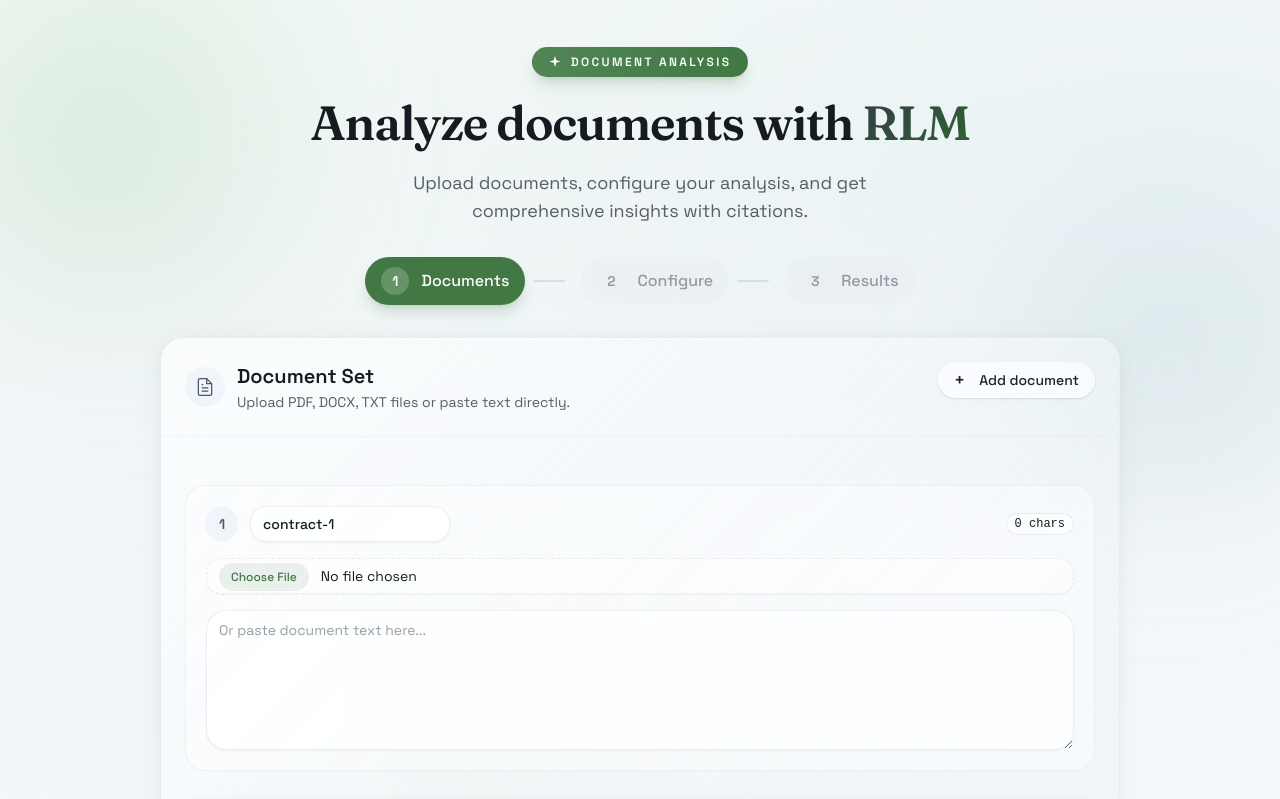
it: Home Page › configuration step › should show advanced parameters based on selected mode
# Navigate to configure
In the text box with placeholder "Or paste document text here...": (640,680) [206,610,1074,750], type "Content"
(page scrolled)
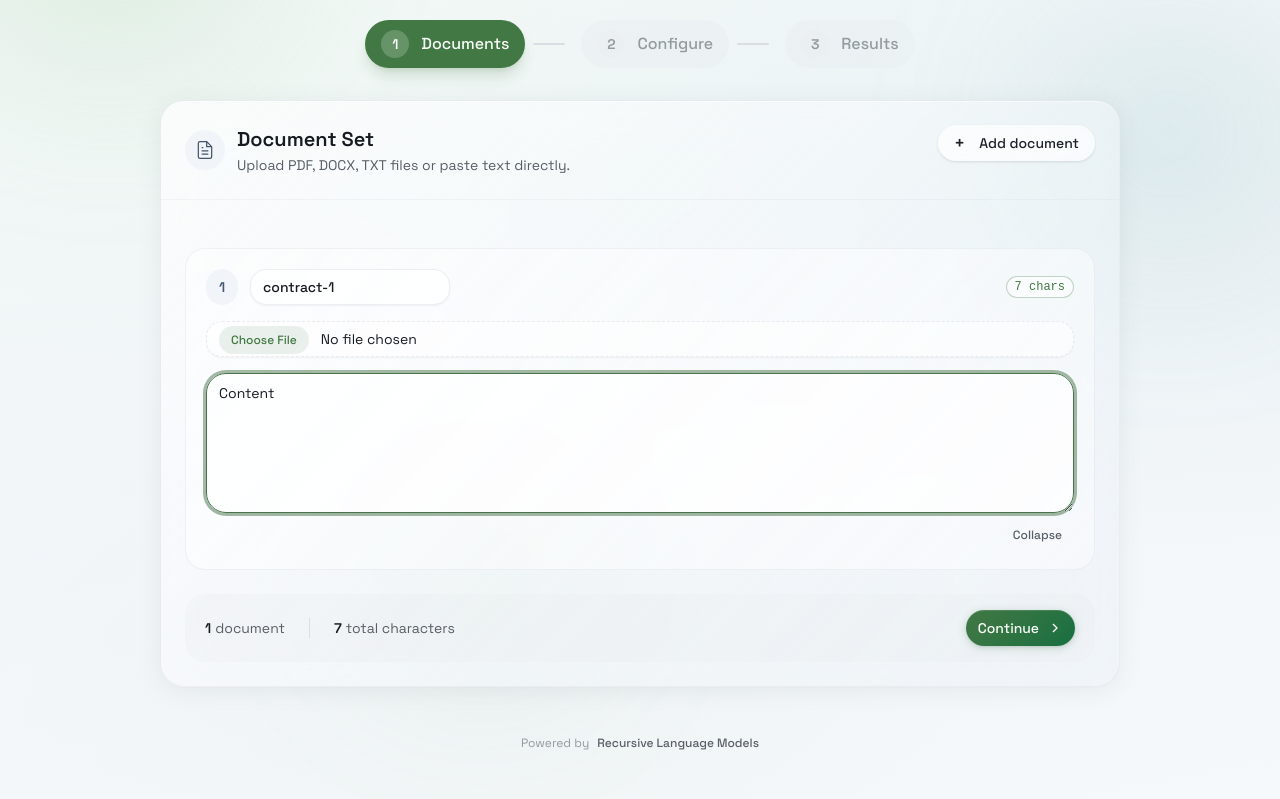
Click the button "Continue": (1020,628) [966,610,1075,646]
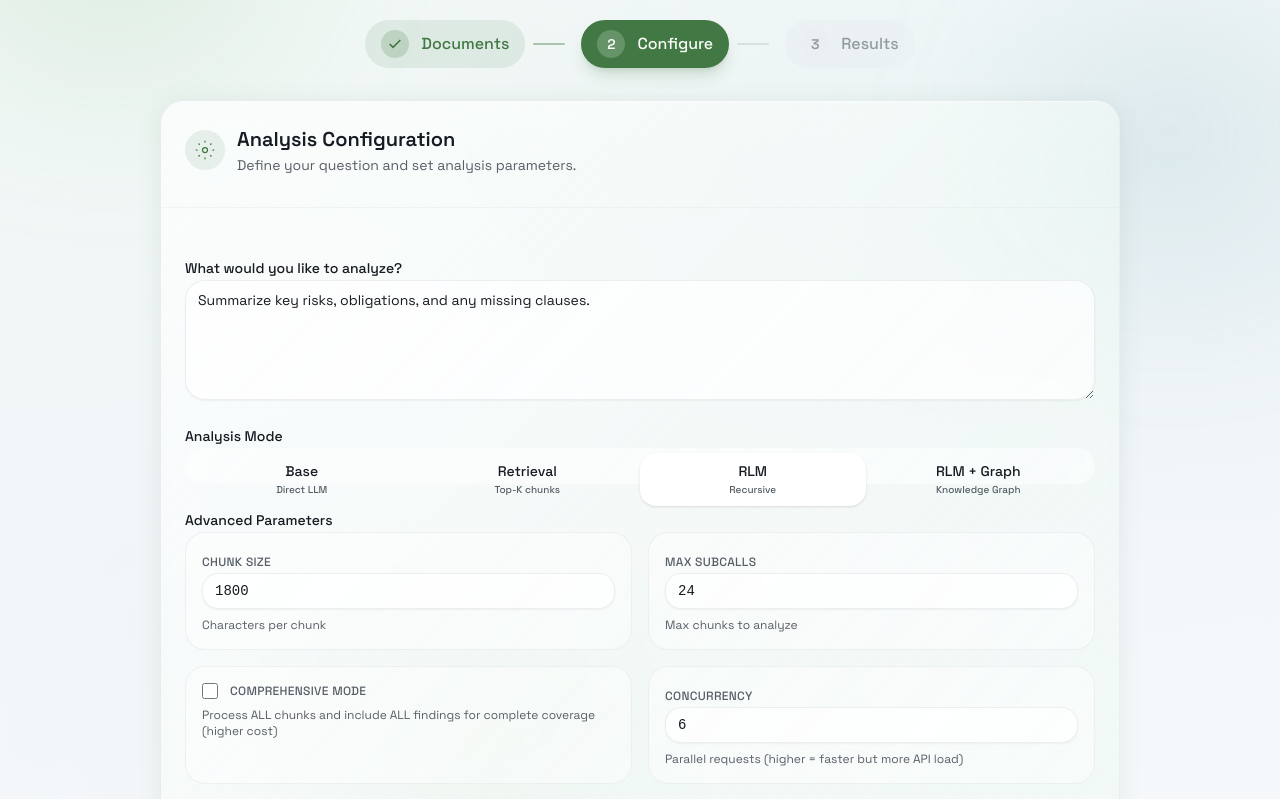
Expected: the text "Top K" is not shown
Expected: the text "Chunk size" is shown, [202,554,271,570]
Expected: the text "Max subcalls" is shown, [665,554,756,570]
# Switch to retrieval mode - should show Chunk size and Top K, but not Max subcalls
Click the tab "Retrieval Top-K chunks": (527,479) [414,452,640,506]
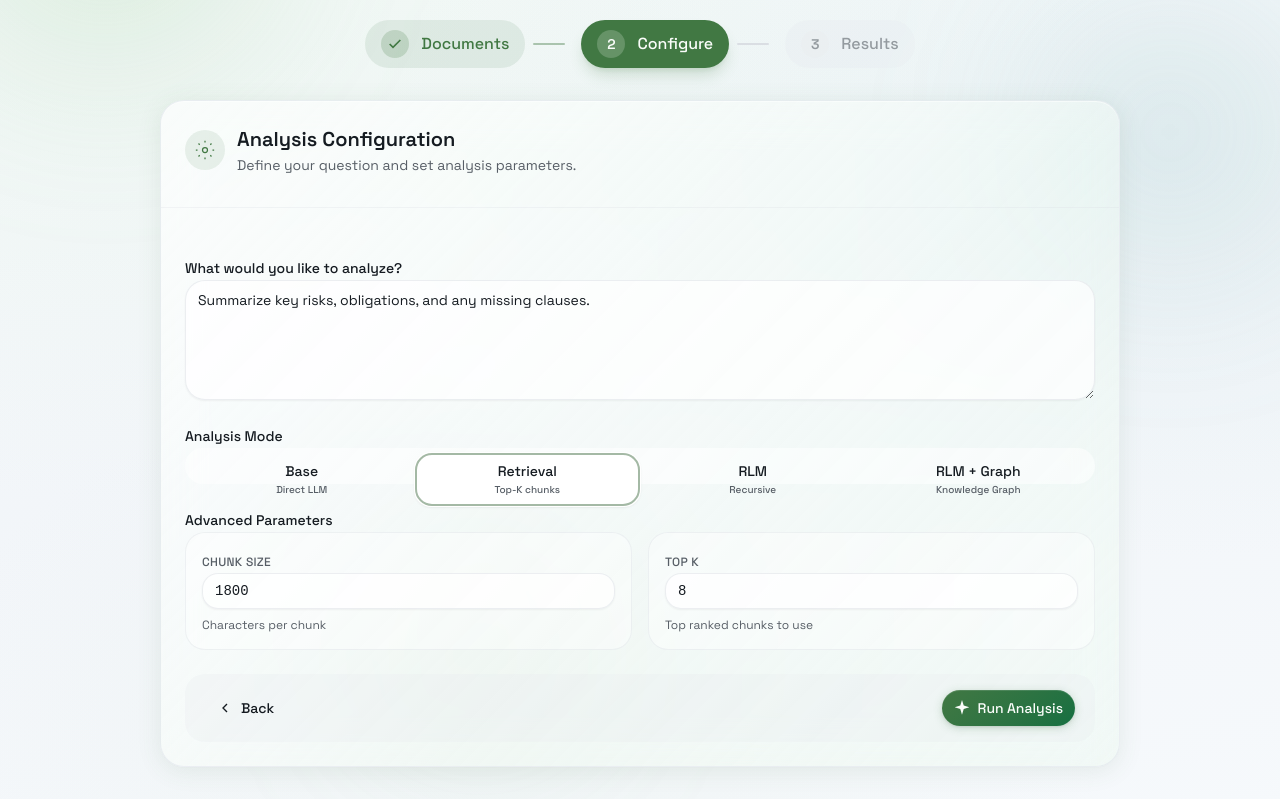
Expected: the text "Chunk size" is shown, [202,554,271,570]
Expected: the text "Top K" is shown, [665,554,699,570]
Expected: the text "Max subcalls" is gone
# Switch to base mode - should show no advanced parameters
Click the tab "Base Direct LLM": (302,479) [189,452,414,506]
(page scrolled)
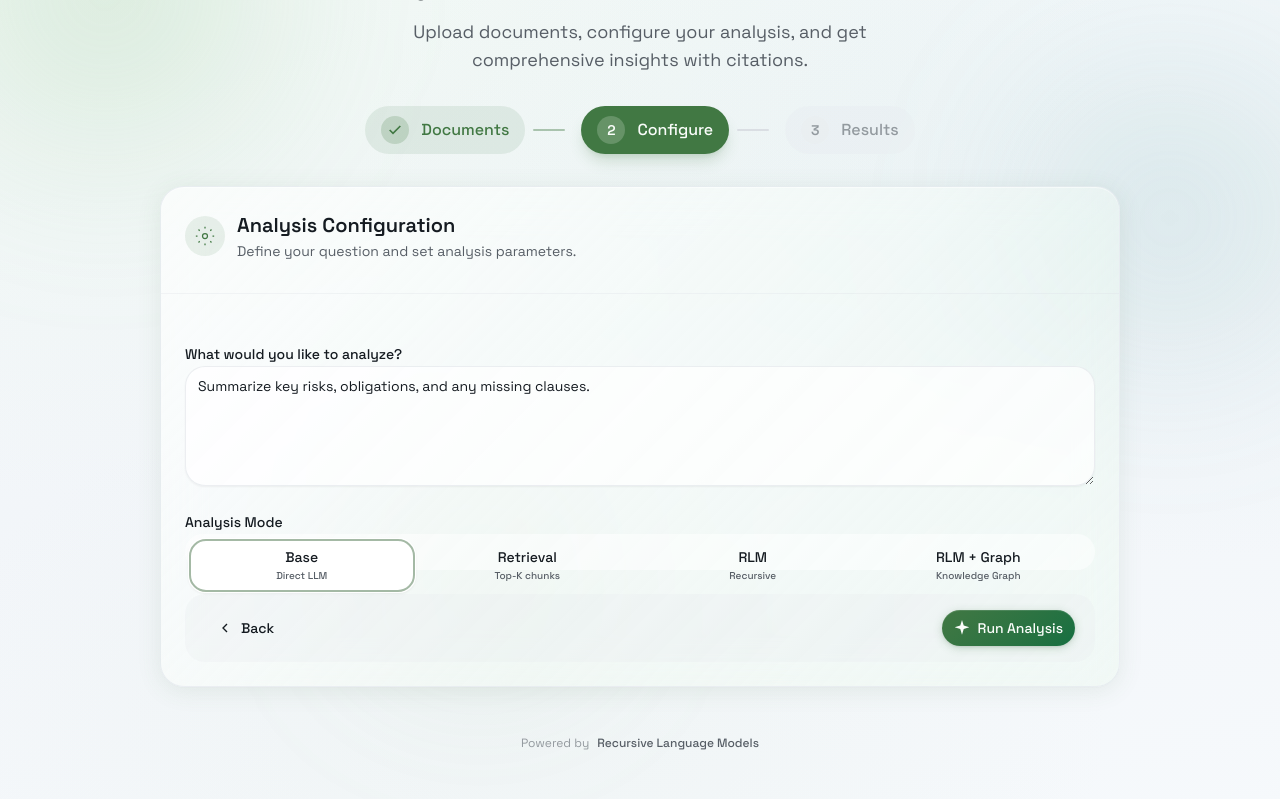
Expected: the text "Chunk size" is gone
Expected: the text "Advanced Parameters" is gone
